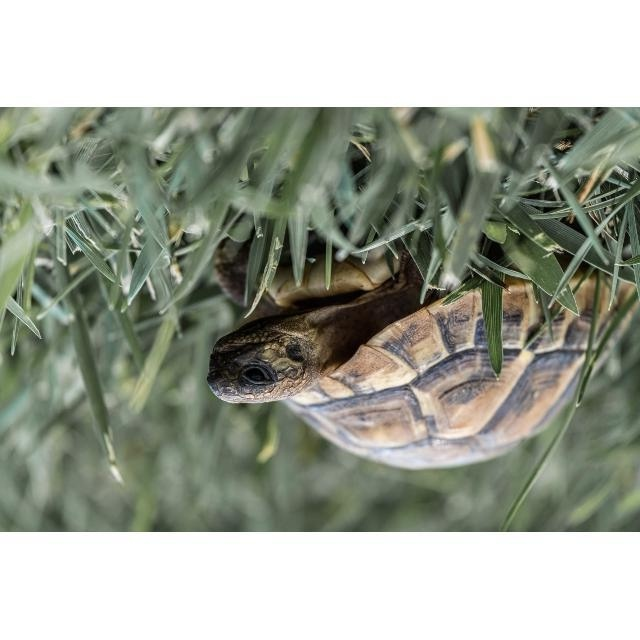turtle: (208, 231, 637, 473)
